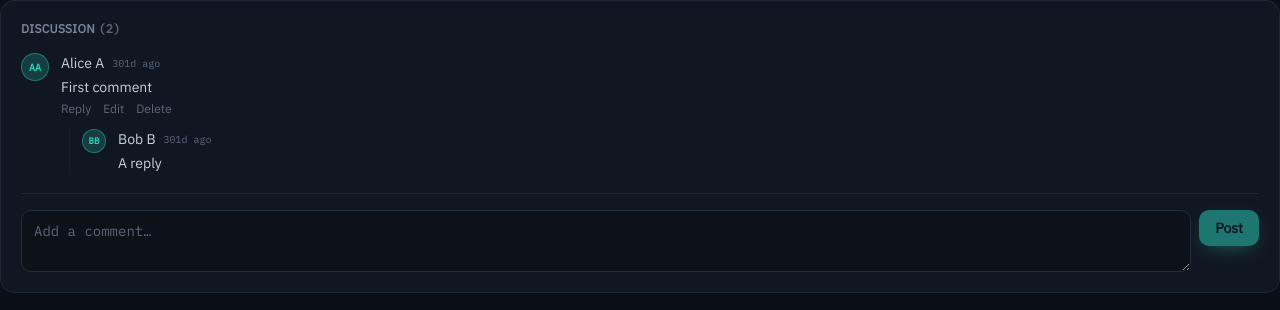
Test: Comments — deleting › deletes a comment and its replies after confirmation
The image size is (1280, 310).
Click the button "Delete" at (154, 109), box [136,101,172,117]
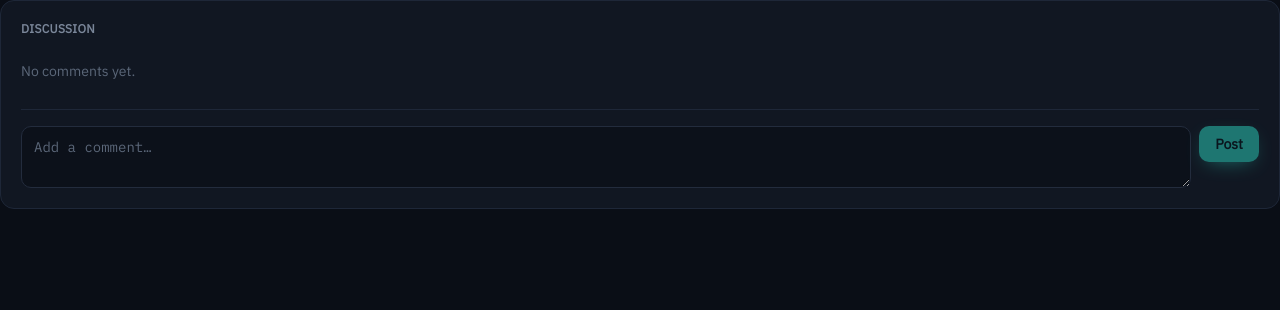
Expected: the text "First comment" is gone
Expected: the text "A reply" is gone
